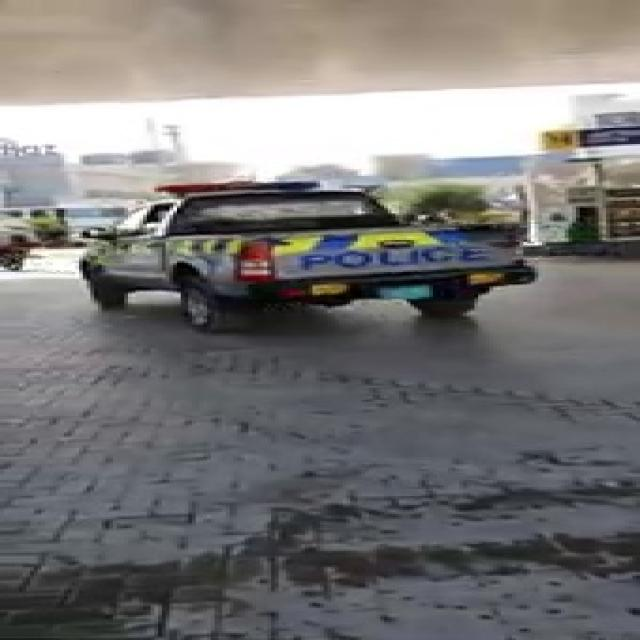police: (75, 188, 528, 334)
